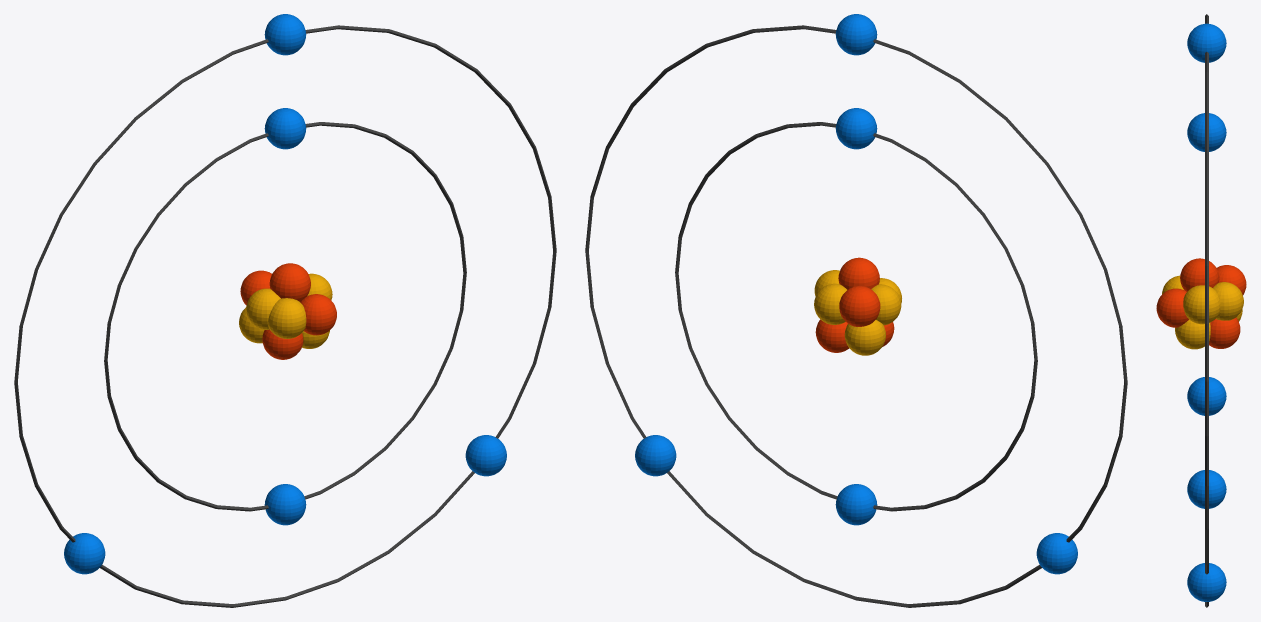
3 views of the same model, side by side, from view 1: azimuth 30°, elevation 25°; view 2: azimuth 150°, elevation 25°; view 3: azimuth 270°, elevation 25° (orthographic). The views are drawn at different scales.
Visible parts, largest first — view 1: Orbit1; view 2: Orbit1; view 3: Orbit1.
Part boxes in pixels (left/top/right/bottom): Orbit1: left=14, top=14, right=556, bottom=607; Orbit1: left=585, top=14, right=1127, bottom=607; Orbit1: left=1156, top=14, right=1246, bottom=607.
Bounding box in the file's own units: 302 × 311 × 45.73.
